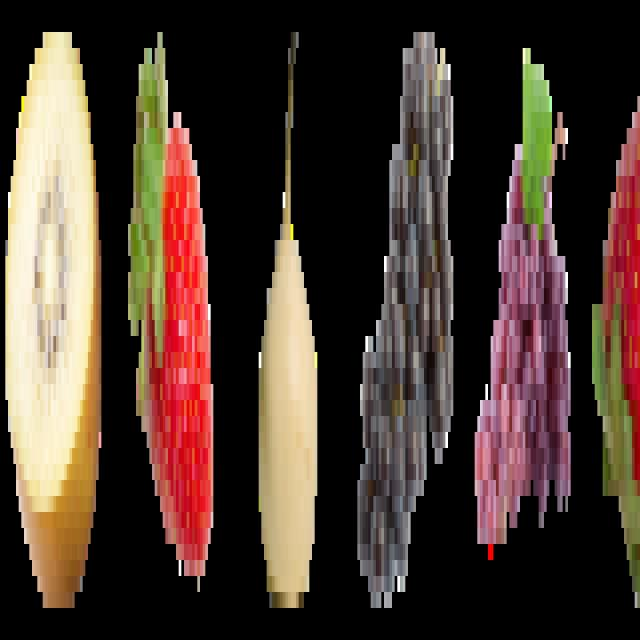grape: (354, 13, 461, 630), (472, 32, 577, 600)
kiwifruit: (4, 9, 106, 622)
pear: (250, 13, 324, 628)
strawberry: (125, 16, 222, 613)
